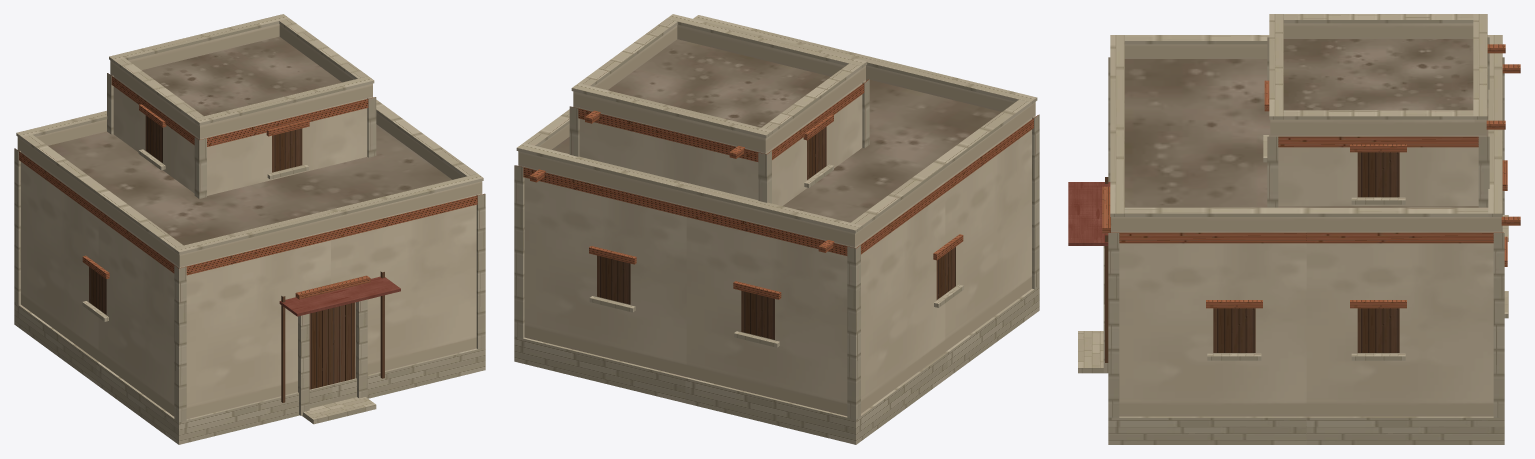
The model's file is ae_sand_stone_large_terrace_lod0.glb.
3 views of the same model, side by side, from view 1: azimuth 30°, elevation 25°; view 2: azimuth 150°, elevation 25°; view 3: azimuth 270°, elevation 25° (orthographic). The views are drawn at different scales.
Visible parts, largest first — view 1: ae_sand_stone_large_terrace_lod0; view 2: ae_sand_stone_large_terrace_lod0; view 3: ae_sand_stone_large_terrace_lod0.
Boxes of the visible parts, x1,y1,x2,y2 form: ae_sand_stone_large_terrace_lod0: (14,14,485,444); ae_sand_stone_large_terrace_lod0: (514,14,1039,444); ae_sand_stone_large_terrace_lod0: (1068,14,1520,444).
Size of the model in its own units: 7.24 by 5.56 by 7.54.
1 material, 1 textured.
